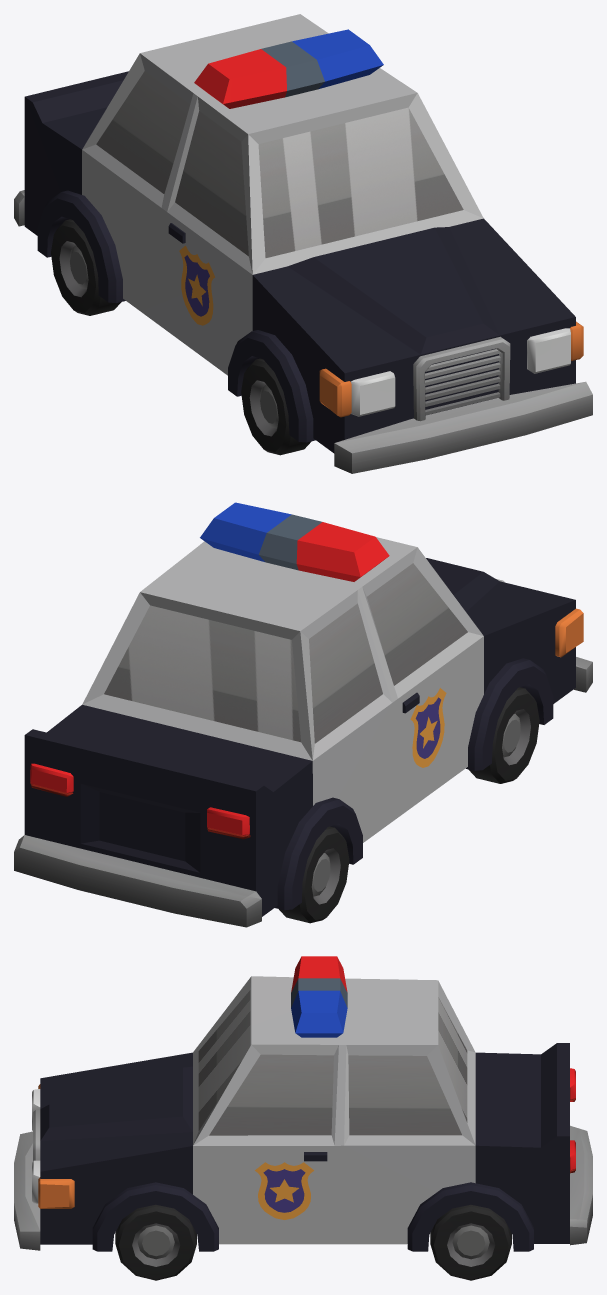
The model's file is PoliceCar.fbx.
The picture shows the model from 3 angles, top to bottom: view 1: azimuth 30°, elevation 25°; view 2: azimuth 150°, elevation 25°; view 3: azimuth 270°, elevation 25°; orthographic projection. The views are drawn at different scales.
Visible parts, largest first — view 1: PoliceCar, W_bR, W_fR; view 2: PoliceCar, W_bR, W_fR; view 3: PoliceCar, W_bL, W_fL.
Part boxes in pixels (bbox=[...]): PoliceCar: bbox=[14, 14, 592, 473]; W_bR: bbox=[51, 219, 121, 315]; W_fR: bbox=[241, 358, 311, 455]; PoliceCar: bbox=[14, 502, 592, 927]; W_bR: bbox=[279, 826, 349, 923]; W_fR: bbox=[468, 687, 539, 783]; PoliceCar: bbox=[14, 956, 592, 1251]; W_bL: bbox=[430, 1204, 511, 1280]; W_fL: bbox=[115, 1204, 196, 1280].
Bounding box in the file's own units: 1.03 × 1.14 × 2.44.
